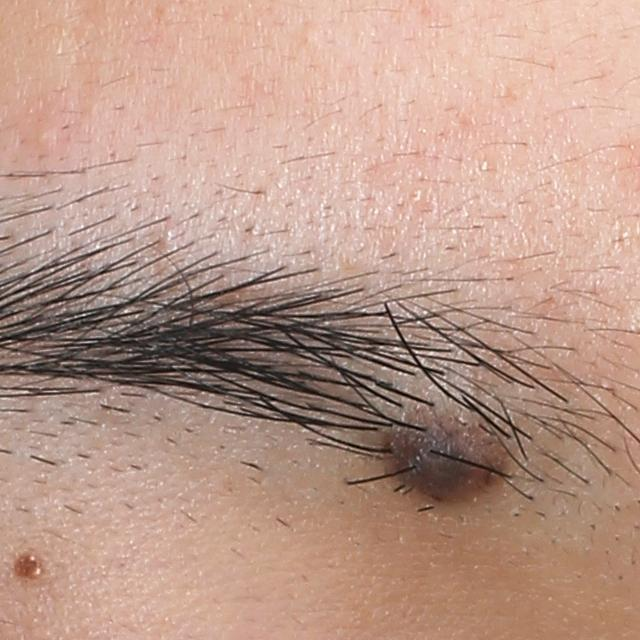nevus: (385, 415, 507, 506)
